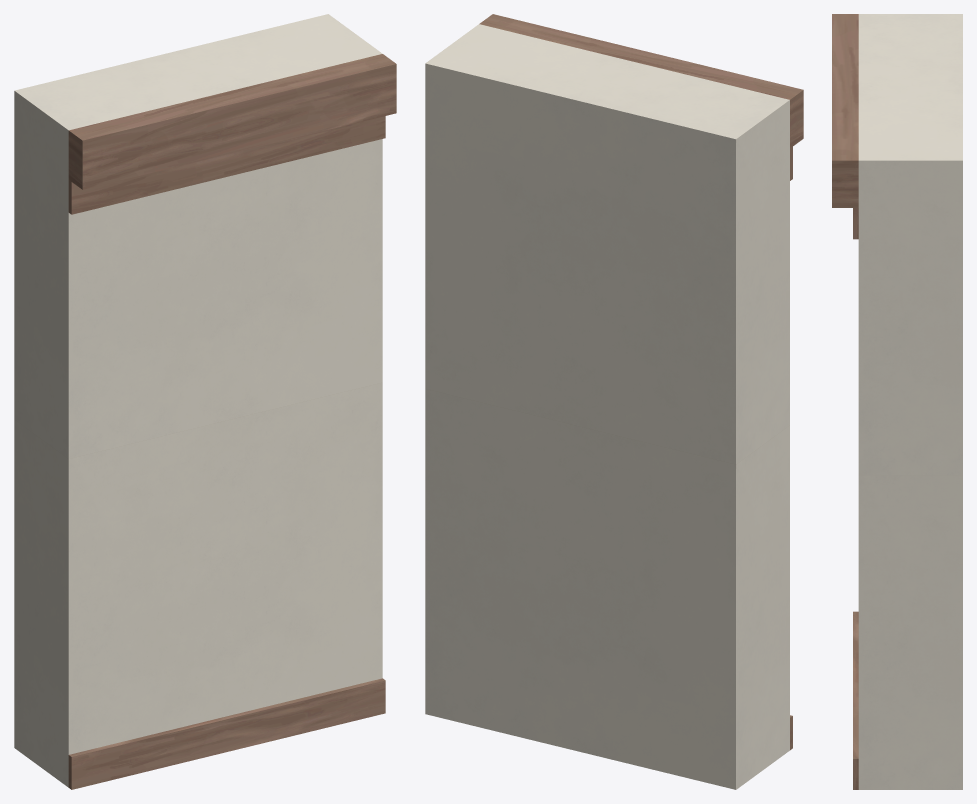
The model's file is Wall.glb.
The picture shows the model from 3 angles, left to right: view 1: azimuth 30°, elevation 25°; view 2: azimuth 150°, elevation 25°; view 3: azimuth 270°, elevation 25°; orthographic projection. The views are drawn at different scales.
Parts seen in each view (by area): view 1: Wall; view 2: Wall; view 3: Wall.
Part boxes in pixels (<box>): Wall: <box>14,14,396,789</box>; Wall: <box>425,14,803,789</box>; Wall: <box>832,14,962,789</box>.
Size of the model in its own units: 2 by 4 by 0.7533.
1 material, 1 textured.
